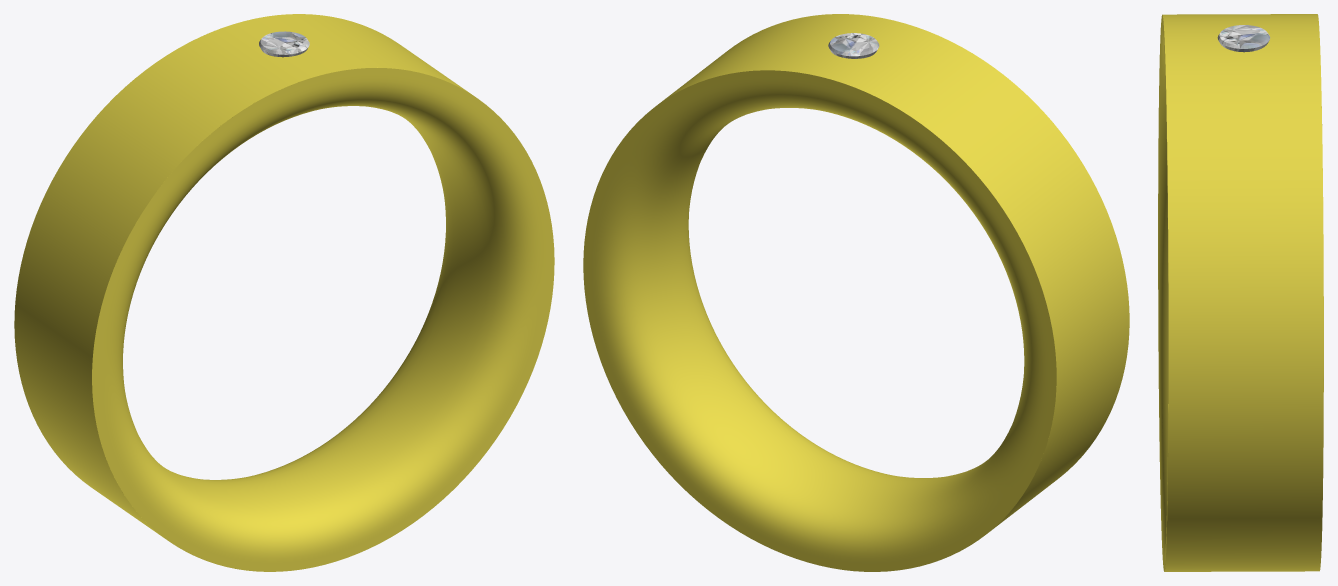
File: ringretacompedra.glb
3 renders of one model, left to right at view 1: azimuth 30°, elevation 25°; view 2: azimuth 150°, elevation 25°; view 3: azimuth 270°, elevation 25°, orthographic. The views are drawn at different scales.
Visible parts, largest first — view 1: Cone; view 2: Cone; view 3: Cone.
Boxes of the visible parts, bbox=[...] form: Cone: bbox=[14, 14, 554, 571]; Cone: bbox=[583, 14, 1129, 571]; Cone: bbox=[1158, 14, 1323, 571].
Size of the model in its own units: 2.52 by 2.54 by 0.7474.
Materials: 2 (1 with a texture image).
